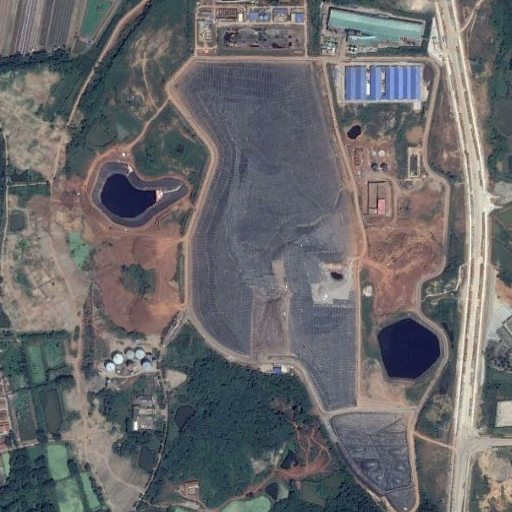lf: (170, 56, 362, 409)
